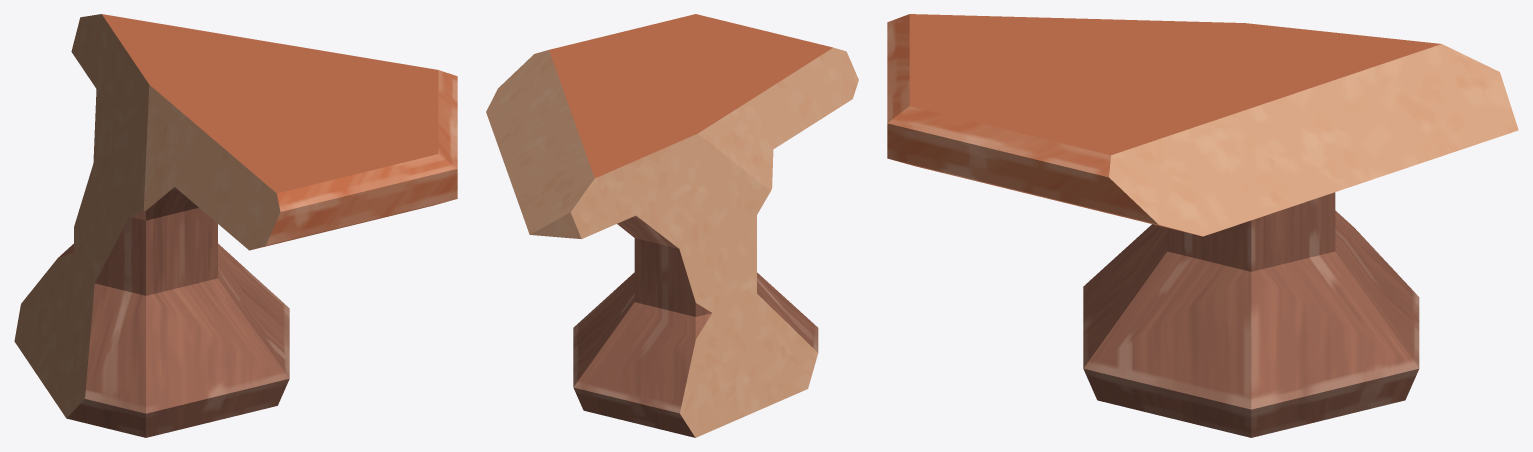
The model's file is tea_table_s01.fbx.
The picture shows the model from 3 angles, left to right: view 1: azimuth 30°, elevation 25°; view 2: azimuth 150°, elevation 25°; view 3: azimuth 270°, elevation 25°; orthographic projection. The views are drawn at different scales.
Parts seen in each view (by area): view 1: tea_table_s01; view 2: tea_table_s01; view 3: tea_table_s01.
Part boxes in pixels (x1,y1,x2,y2): tea_table_s01: (14,14,457,437); tea_table_s01: (486,14,858,437); tea_table_s01: (887,14,1518,437).
Bounding box in the file's own units: 1.58 × 1.16 × 1.95.
